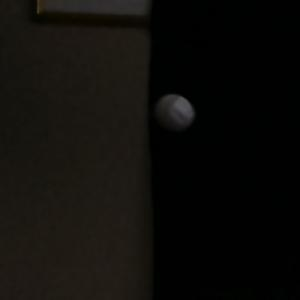ball: (154, 93, 197, 136)
